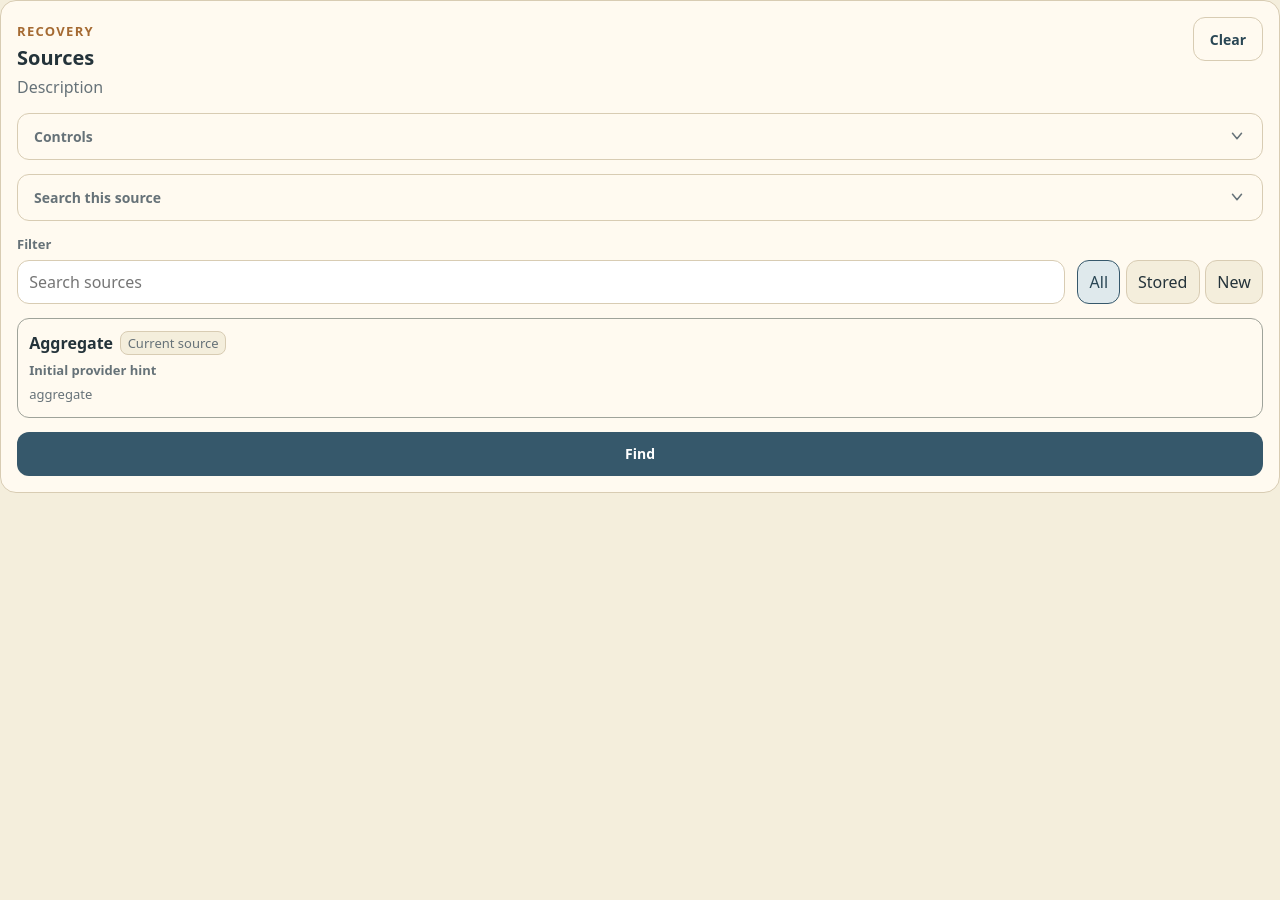
Scenario: SourceRecoveryPanel › requires confirmation before clear and rescan
The width and height of the screenshot is (1280, 900).
Click the button "Clear" at (1228, 39), box [1193, 17, 1263, 61]
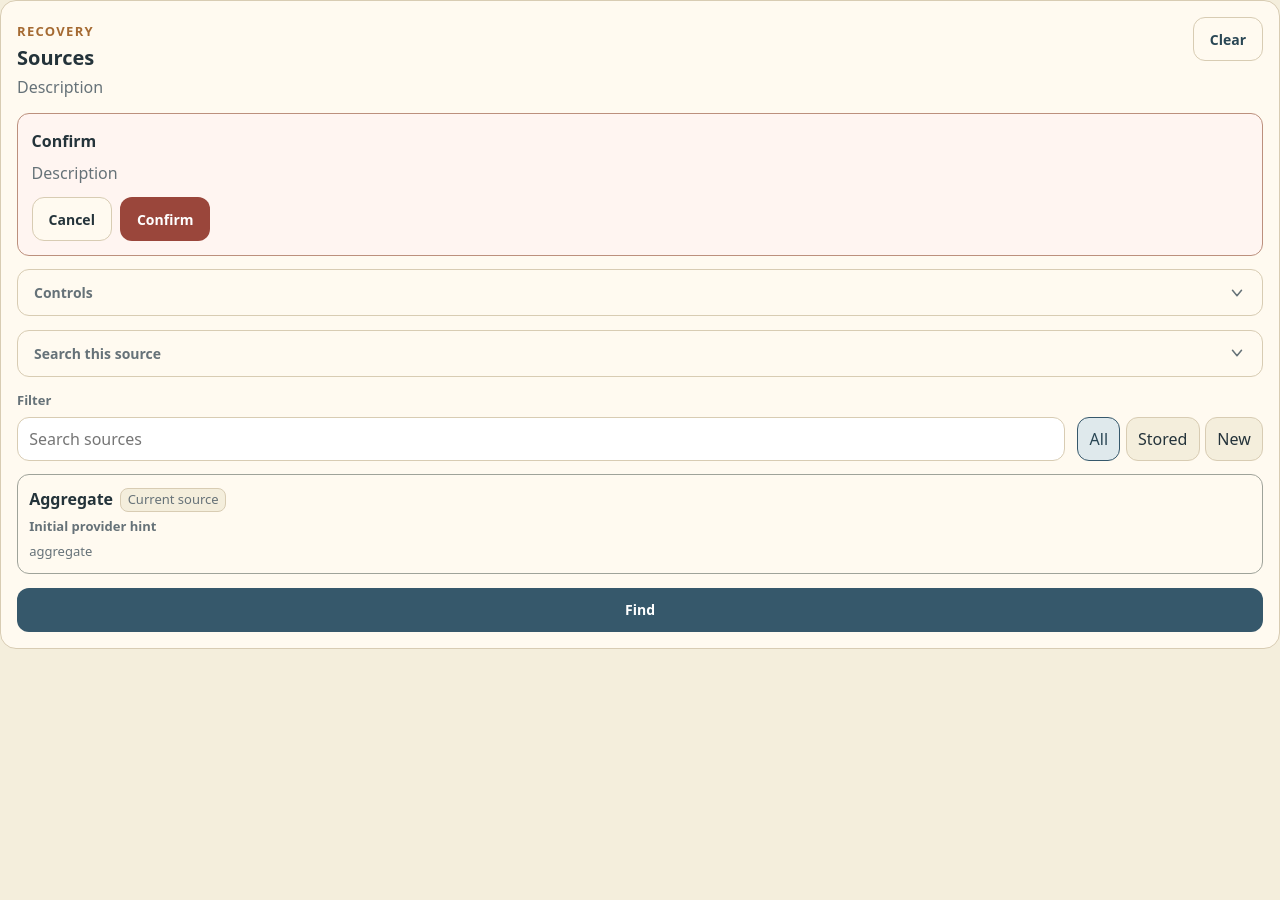
Check: the text "Confirm" is shown, box [32, 130, 96, 152]
